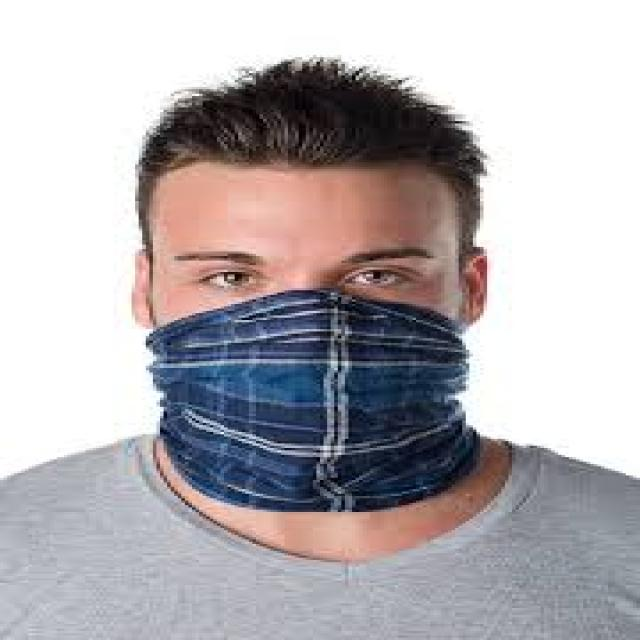person-with-mask: (10, 13, 640, 628)
